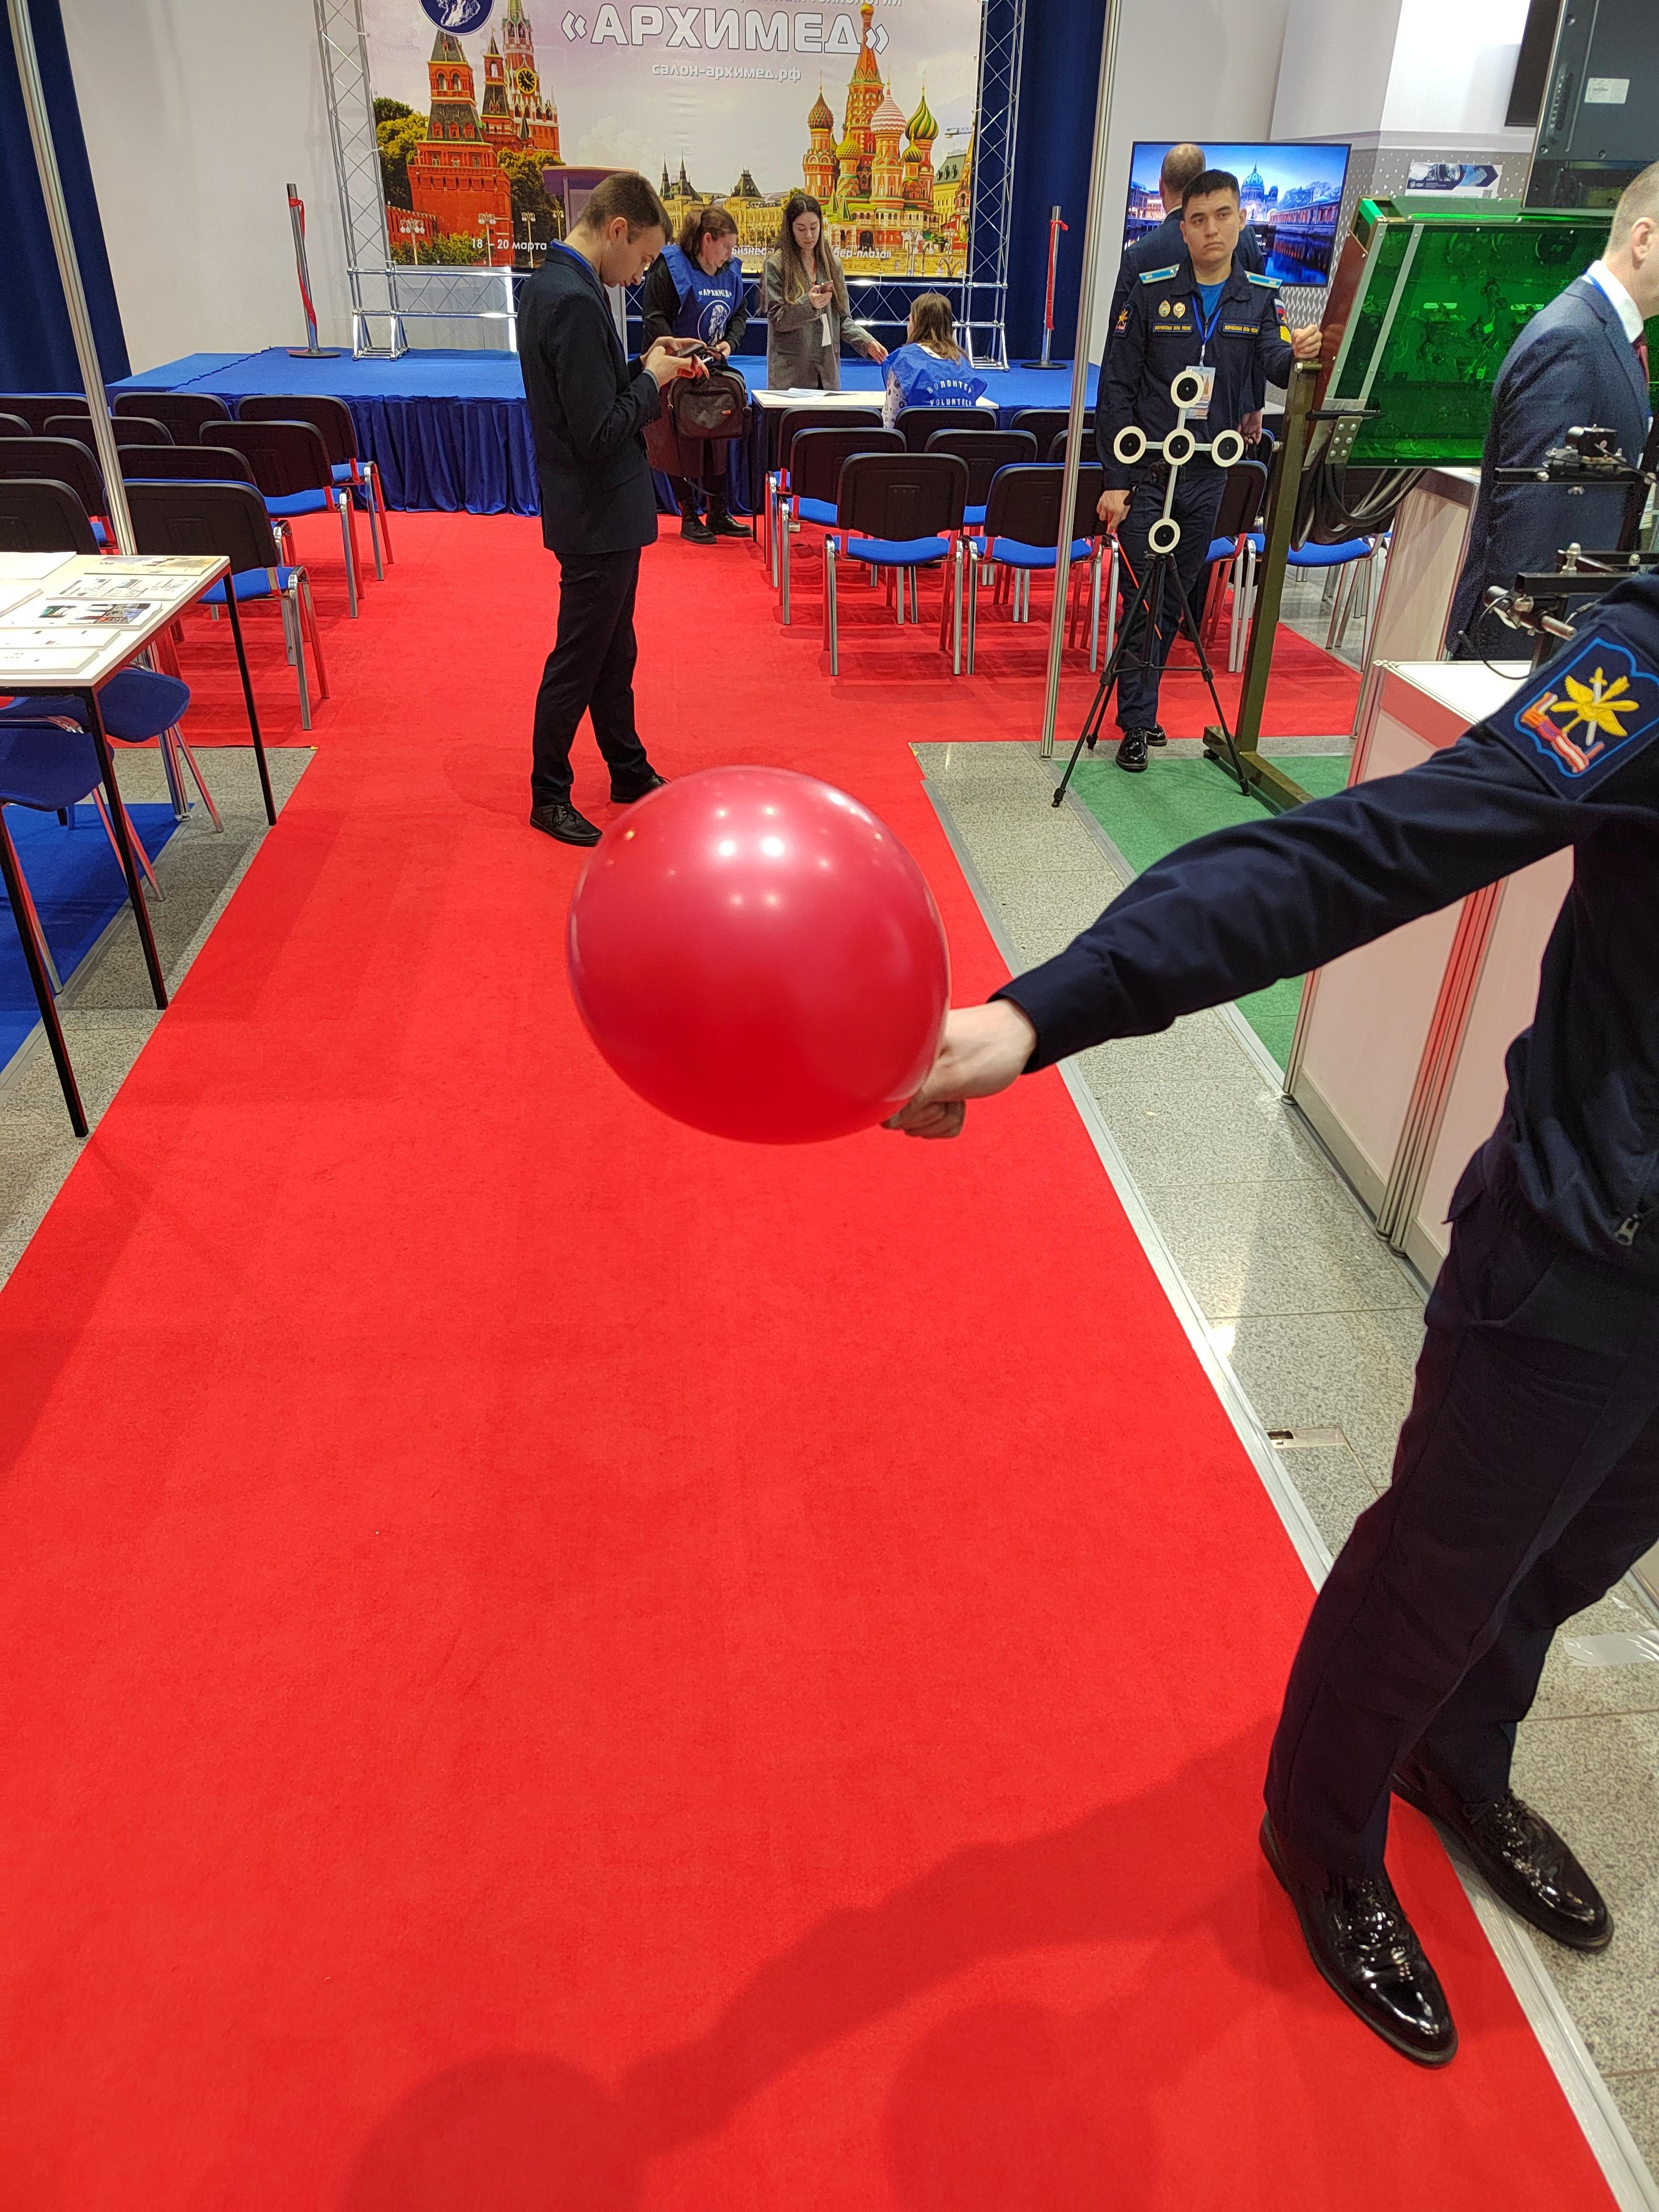red: (566, 761, 953, 1137)
